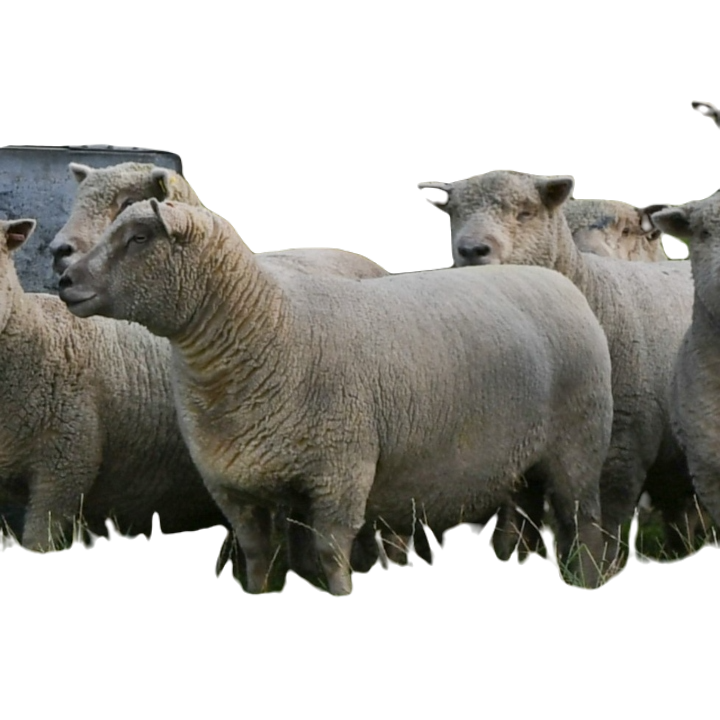Sheep: (54, 195, 617, 594)
